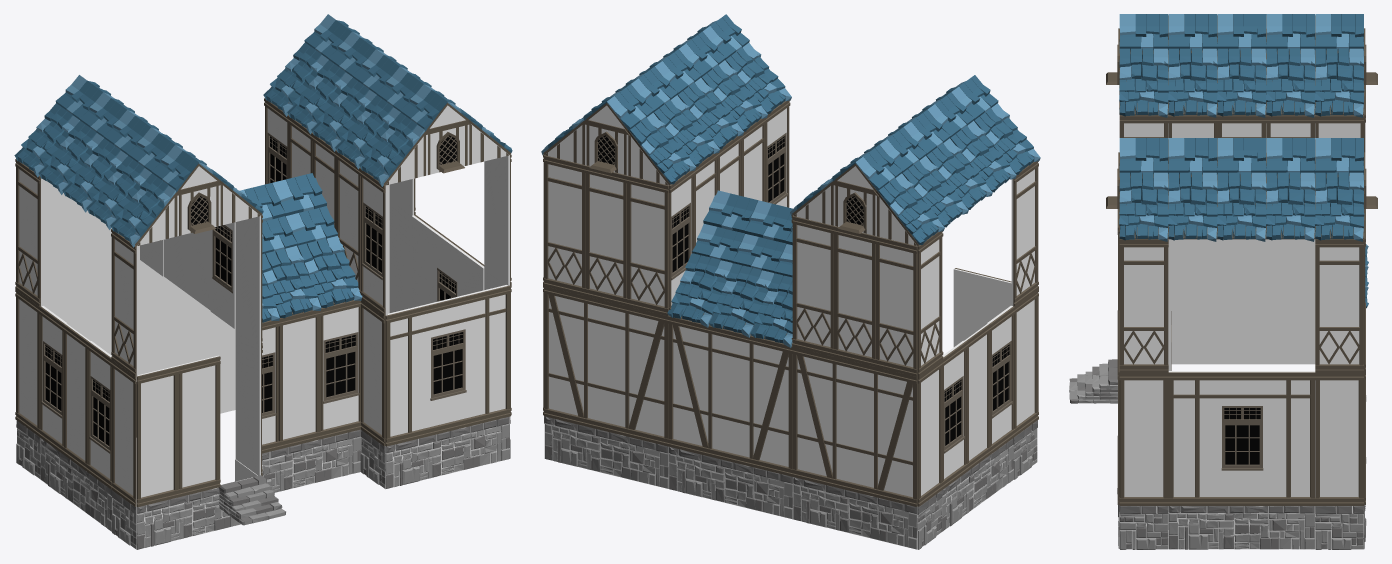
The model's file is House_10_parts.fbx.
3 renders of one model, left to right at view 1: azimuth 30°, elevation 25°; view 2: azimuth 150°, elevation 25°; view 3: azimuth 270°, elevation 25°, orthographic. The views are drawn at different scales.
Visible parts, largest first — view 1: WINDOW_03_2, WALL_02_3, WALL_03_4, WALL_03_9, WALL_03_3, FOUNDATION_02_25, WINDOW_04_6, WINDOW_03_3, WALL_02_2, FOUNDATION_02_24, FOUNDATION_02_26, WALL_01_1 (+64 smaller); view 2: WALL_02_3, WALL_02_2, WALL_02_4, WALL_01_4, WALL_01_16, WALL_01_10, WALL_01_5, WALL_01_3, WALL_01_15, FOUNDATION_02_29, FOUNDATION_02_28, FOUNDATION_02_30 (+51 smaller); view 3: WINDOW_03_3, WALL_01_11, WALL_03_11, WALL_01_9, FOUNDATION_02_27, WALL_03_12, FOUNDATION_02_31, WALL_01_13, WALL_01_12, WALL_01_14, ROOF_base_3, ROOF_base_13 (+30 smaller).
Boxes of the visible parts, x1=… form: WINDOW_03_2: x1=385, y1=285, x2=510, y2=446; WALL_02_3: x1=142, y1=262, x2=235, y2=373; WALL_03_4: x1=136, y1=365, x2=179, y2=506; WALL_03_9: x1=278, y1=310, x2=320, y2=448; WALL_03_3: x1=178, y1=355, x2=220, y2=496; FOUNDATION_02_25: x1=385, y1=416, x2=509, y2=488; WINDOW_04_6: x1=320, y1=300, x2=361, y2=438; WINDOW_03_3: x1=411, y1=215, x2=484, y2=307; WALL_02_2: x1=42, y1=260, x2=142, y2=374; FOUNDATION_02_24: x1=261, y1=429, x2=361, y2=492; FOUNDATION_02_26: x1=136, y1=477, x2=252, y2=549; WALL_01_1: x1=111, y1=229, x2=138, y2=376; WALL_02_3: x1=668, y1=315, x2=792, y2=476; WALL_02_2: x1=792, y1=346, x2=917, y2=506; WALL_02_4: x1=543, y1=286, x2=668, y2=446; WALL_01_4: x1=875, y1=236, x2=917, y2=376; WALL_01_16: x1=626, y1=175, x2=668, y2=316; WALL_01_10: x1=543, y1=155, x2=585, y2=295; WALL_01_5: x1=792, y1=216, x2=834, y2=356; WALL_01_3: x1=833, y1=226, x2=875, y2=366; WALL_01_15: x1=585, y1=165, x2=627, y2=305; FOUNDATION_02_29: x1=669, y1=446, x2=793, y2=519; FOUNDATION_02_28: x1=793, y1=477, x2=917, y2=549; FOUNDATION_02_30: x1=544, y1=416, x2=668, y2=488; WINDOW_03_3: x1=1168, y1=371, x2=1315, y2=505; WALL_01_11: x1=1119, y1=239, x2=1168, y2=372; WALL_03_11: x1=1119, y1=373, x2=1168, y2=505; WALL_01_9: x1=1315, y1=239, x2=1363, y2=372; FOUNDATION_02_27: x1=1171, y1=320, x2=1315, y2=364; WALL_03_12: x1=1315, y1=373, x2=1363, y2=505; FOUNDATION_02_31: x1=1168, y1=506, x2=1315, y2=549; WALL_01_13: x1=1217, y1=239, x2=1266, y2=310; WALL_01_12: x1=1168, y1=239, x2=1217, y2=310; WALL_01_14: x1=1266, y1=239, x2=1315, y2=310; ROOF_base_3: x1=1119, y1=48, x2=1168, y2=117; ROOF_base_13: x1=1119, y1=172, x2=1168, y2=241.
Size of the model in its own units: 920 by 859 by 631.
